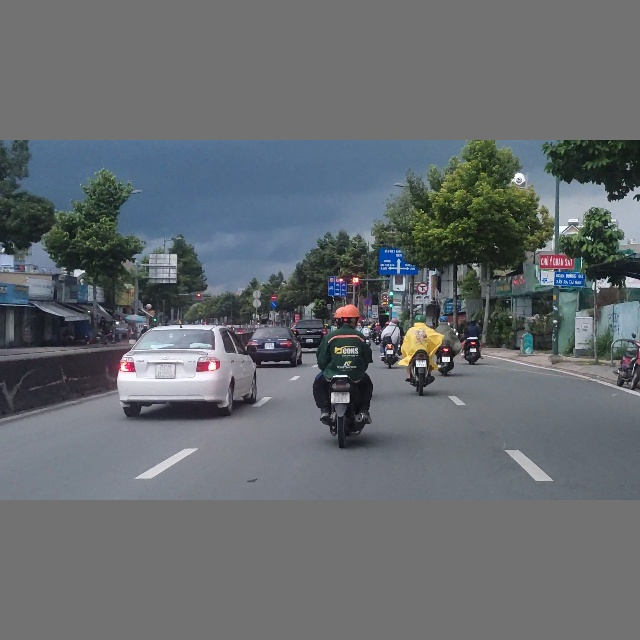P.102: (271, 294, 278, 301)
P.131a: (364, 298, 371, 306)
P.137: (417, 282, 429, 294)
R.302a: (271, 302, 278, 308)
R.415a: (328, 282, 347, 296)
